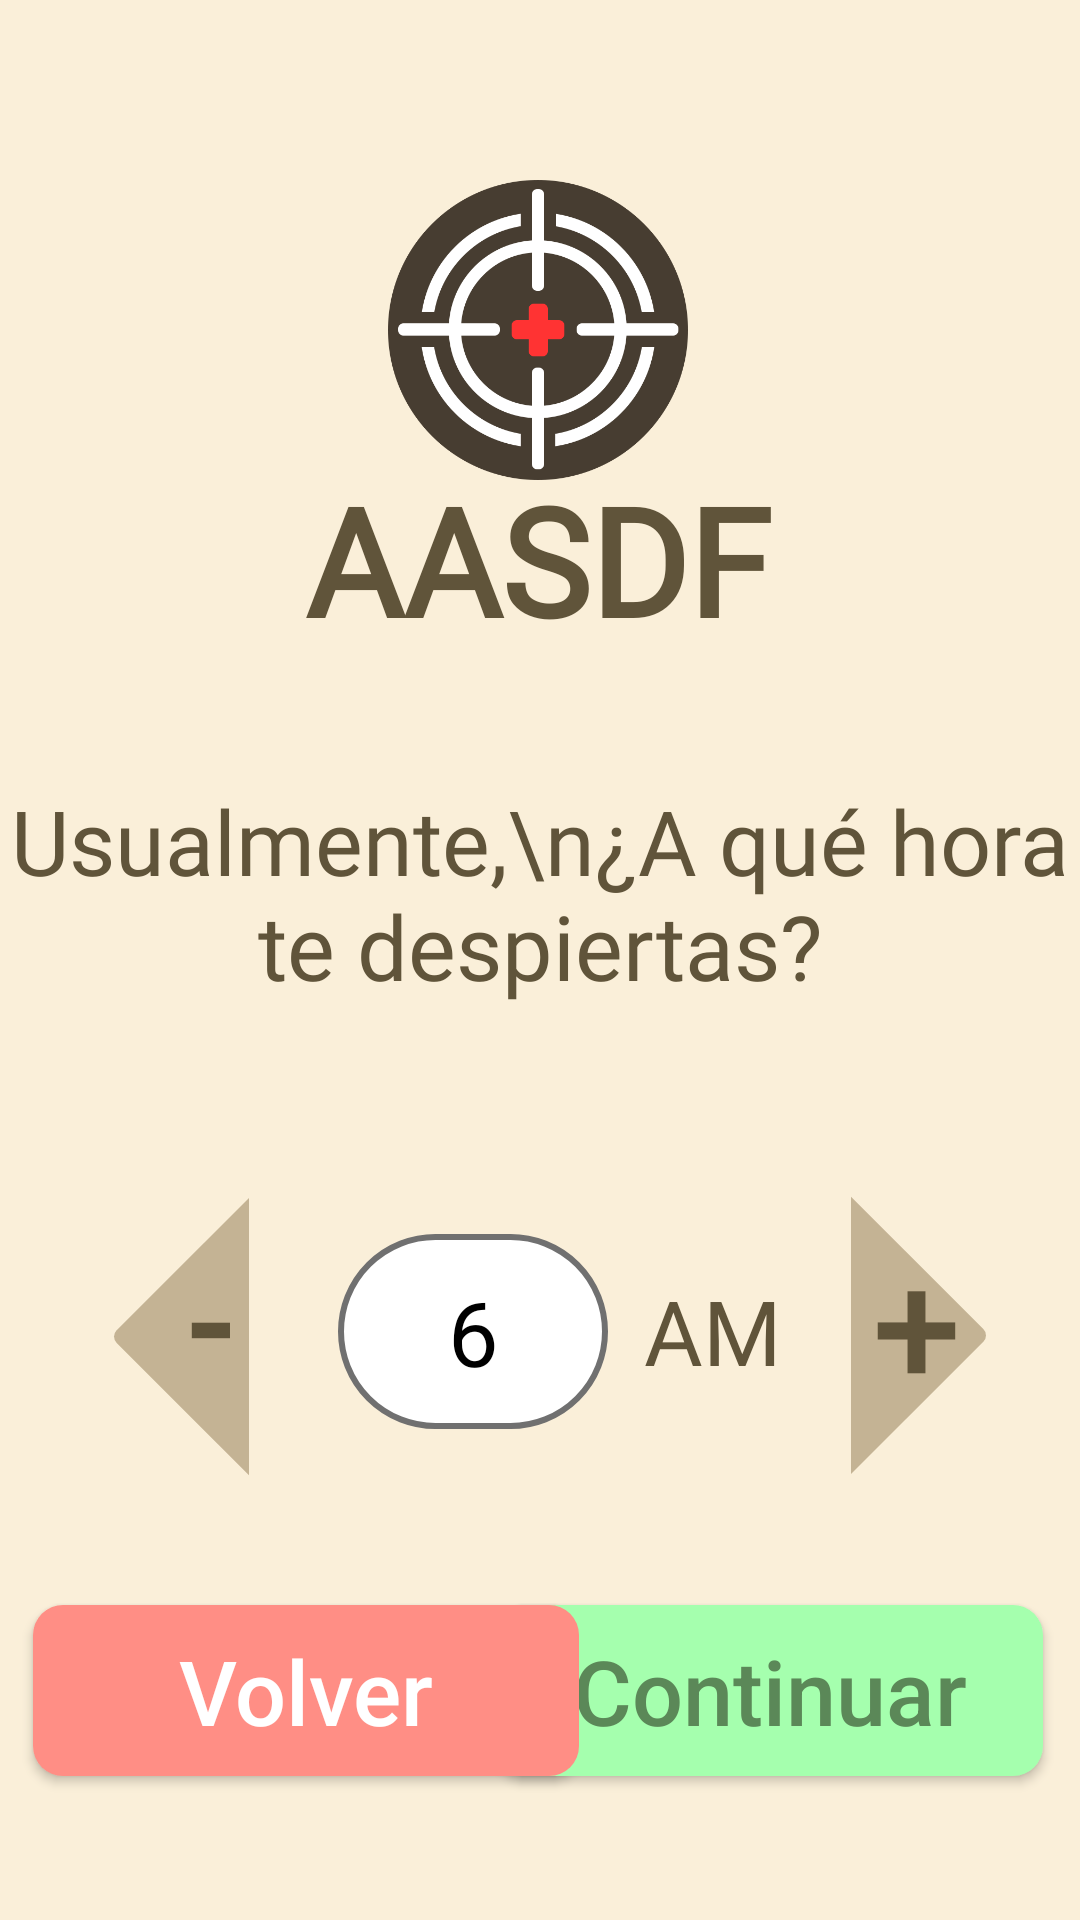

Point at icon controls on the screen. Image size 1080*1920, points as [x,y].
Icono Aplicación Mira Roja: [538,330]
